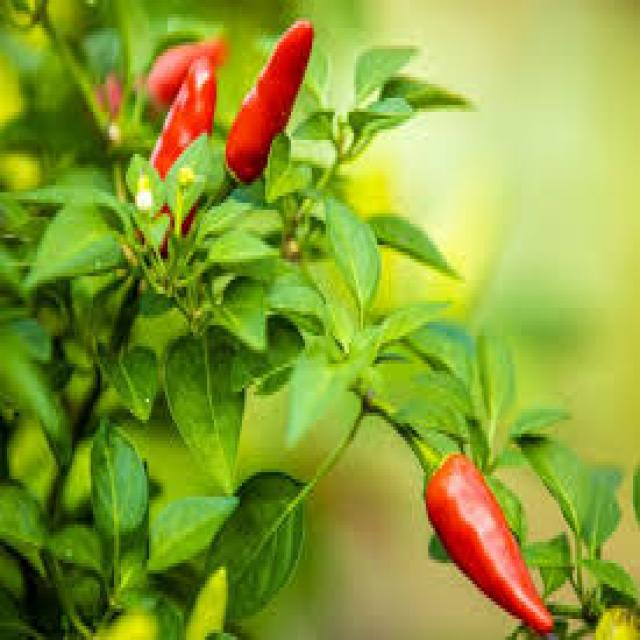sehat: (208, 467, 322, 640), (162, 327, 266, 477), (84, 402, 154, 545)
